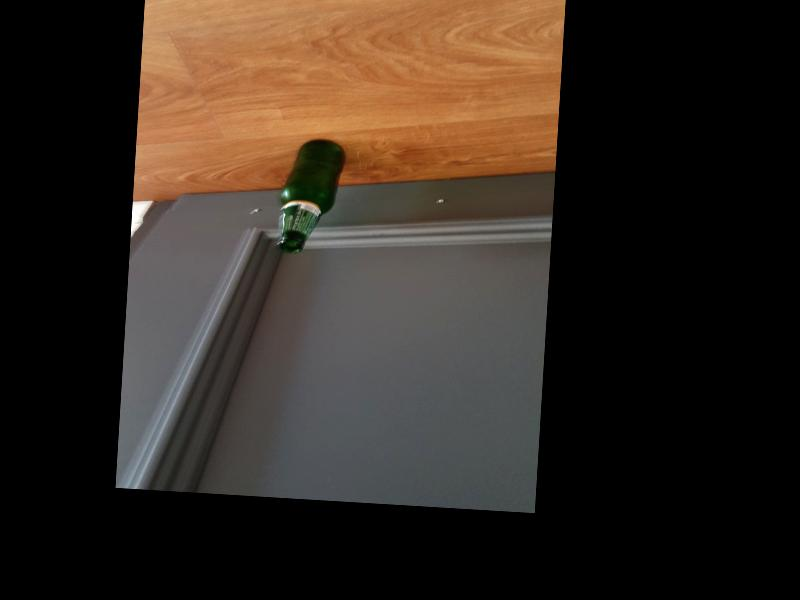Beer: (279, 138, 344, 253)
